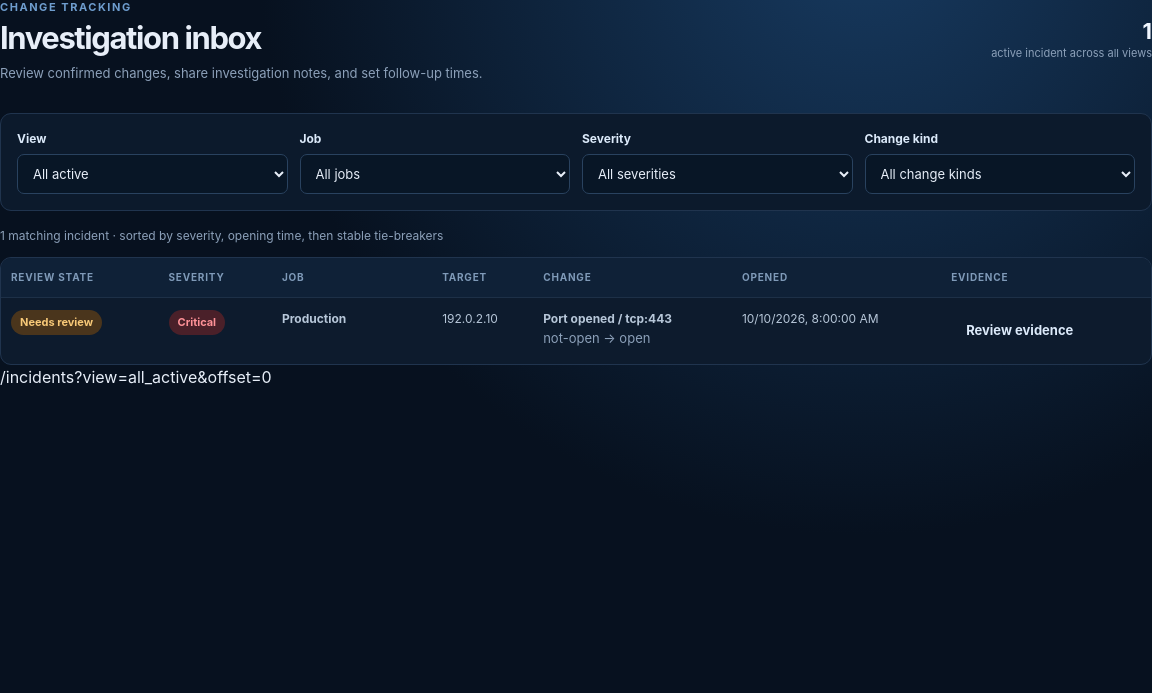
Scenario: shared review workflow › keeps the evidence panel, review draft and focus after a background refetch fails
Expected: the heading "Investigation inbox" is shown, [0,18,261,56]
Click the button "Review evidence" at [1020, 331], box [951,310,1088,352]
(page scrolled)
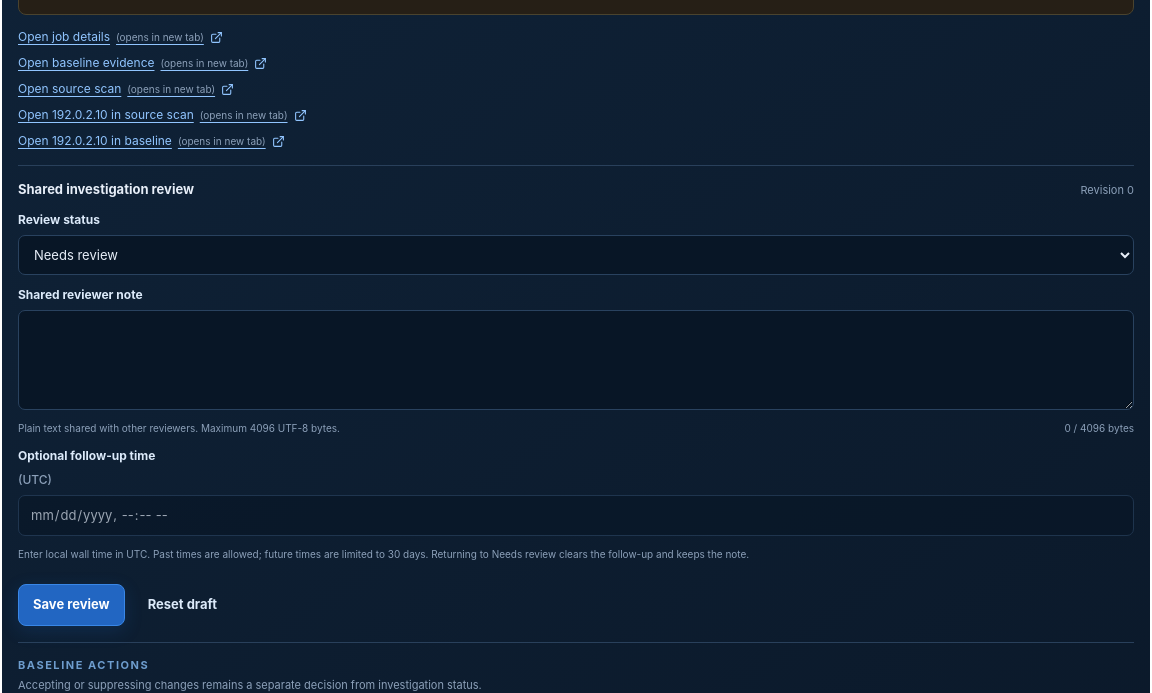
Type "Unsaved reviewer context" into the text box labelled "Shared reviewer note" at [576, 360], box [18,310,1134,410]
(page scrolled)
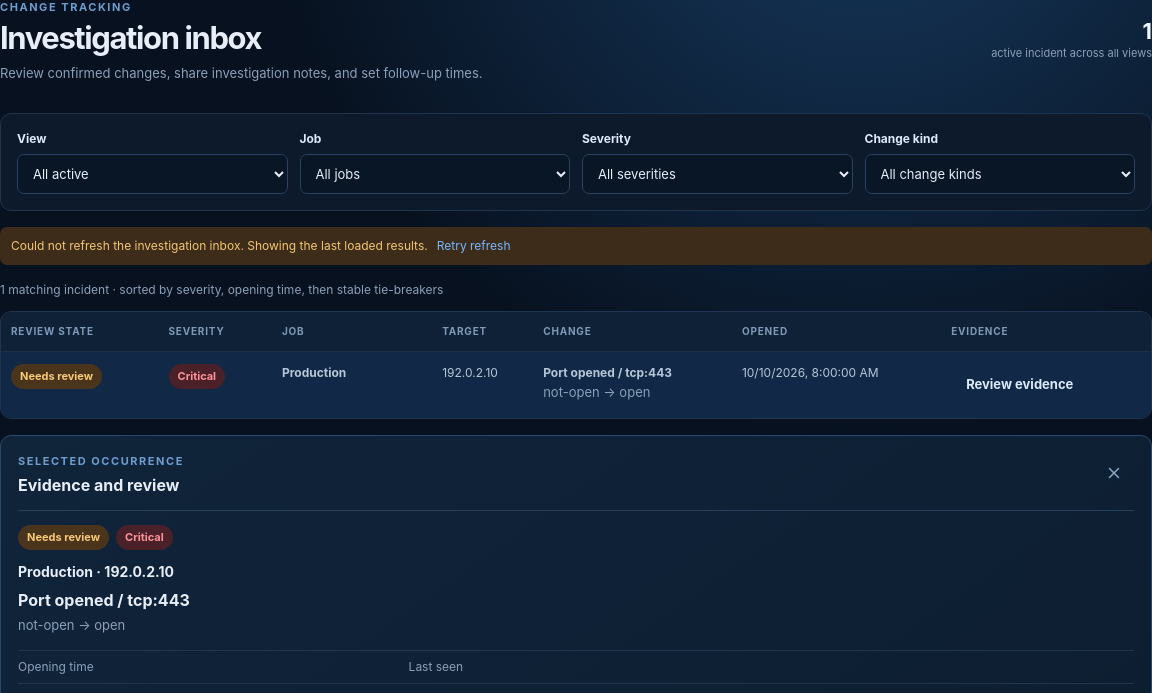
Expected: the text "Could not refresh the investigation inbox. Showing the last loaded results." is shown, [11,237,428,255]
